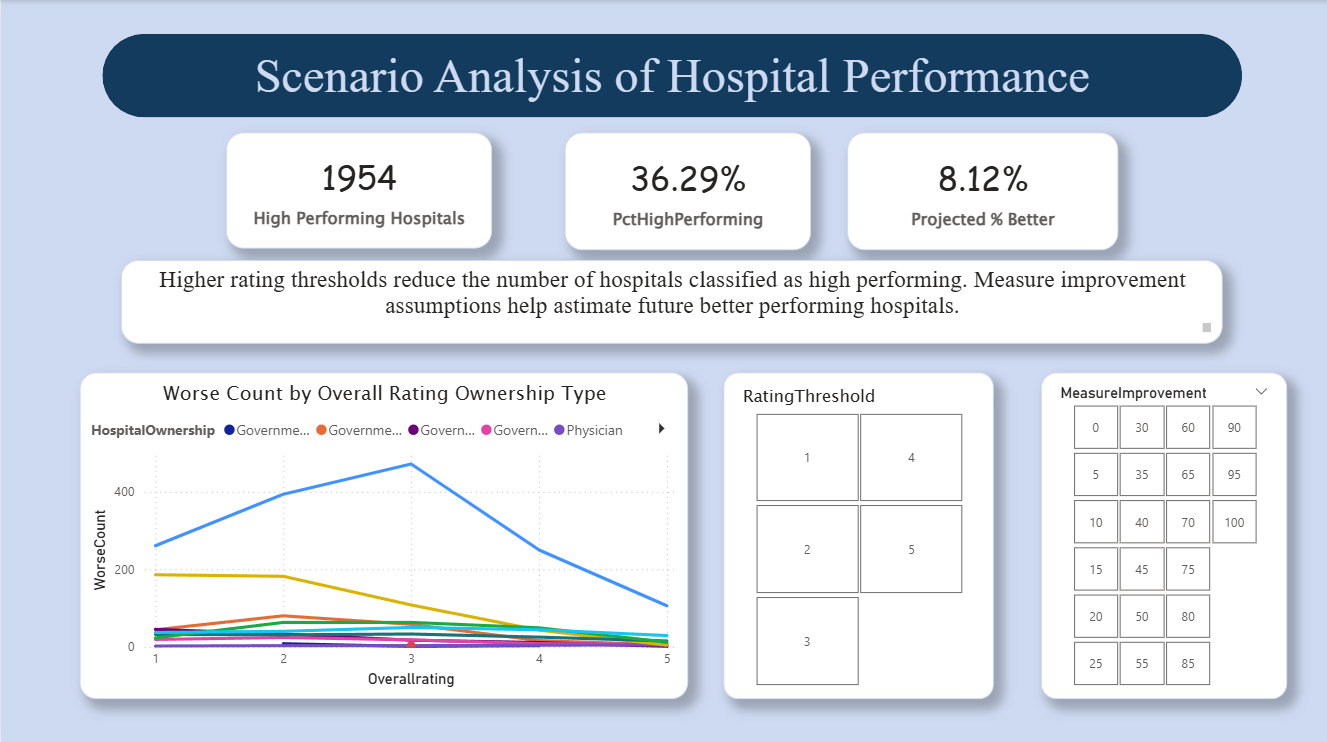

This screenshot's page, from the dashboard's own definition file:
{"tool":"powerbi","page":{"name":"Scenario Analysis","canvas":[1280,720],"ordinal":2},"visuals":[{"type":"slicer","fields":{"Values":["RatingThreshold.RatingThreshold"]},"box":[697.3,359.5,260.6,314.9],"z":0},{"type":"slicer","fields":{"Values":["MeasureImprovement.MeasureImprovement"]},"box":[1003.8,359.5,237.7,314.9],"z":1000},{"type":"lineChart","title":"Worse Count by Overall Rating Ownership Type","fields":{"Category":["Hospital.Overallrating"],"Y":["FactPerformance.WorseCount"],"Series":["Dim_Ownership.HospitalOwnership"]},"box":[76,359.5,587.5,314.9],"z":2000},{"type":"shape","box":[97.7,32.6,1100.3,80.8],"z":3000},{"type":"card","fields":{"Values":["DAX_Measures.HighPerformingHospitals"]},"box":[217.2,127.9,257,112.2],"z":4000},{"type":"card","fields":{"Values":["DAX_Measures.PctHighPerforming"]},"box":[544.1,127.9,237.7,113.4],"z":5000},{"type":"card","fields":{"Values":["DAX_Measures.ProjectedPctBetter"]},"box":[816.8,127.9,261.8,113.4],"z":6000},{"type":"textbox","title":"Higher rating thresholds reduce the number of hospitals classified as high performing. Measure improvement assumptions help astimate future better performing hospitals.","box":[115.8,250.9,1062.9,80.8],"z":7000}]}

Visuals, with their boxes in screenshot pixels (x1, y1, x2, y2), scaled from the page's 1280x720 canvas onto the 1327x742 screenshot:
slicer - RatingThreshold.RatingThreshold: 723,370,993,695
slicer - MeasureImprovement.MeasureImprovement: 1041,370,1287,695
"Worse Count by Overall Rating Ownership Type" lineChart: 79,370,688,695
shape: 101,34,1242,117
card - DAX_Measures.HighPerformingHospitals: 225,132,492,247
card - DAX_Measures.PctHighPerforming: 564,132,811,249
card - DAX_Measures.ProjectedPctBetter: 847,132,1118,249
"Higher rating thresholds reduce the number of hospitals classified as high performing. Measure improvement assumptions help astimate future better performing hospitals." textbox: 120,259,1222,342
